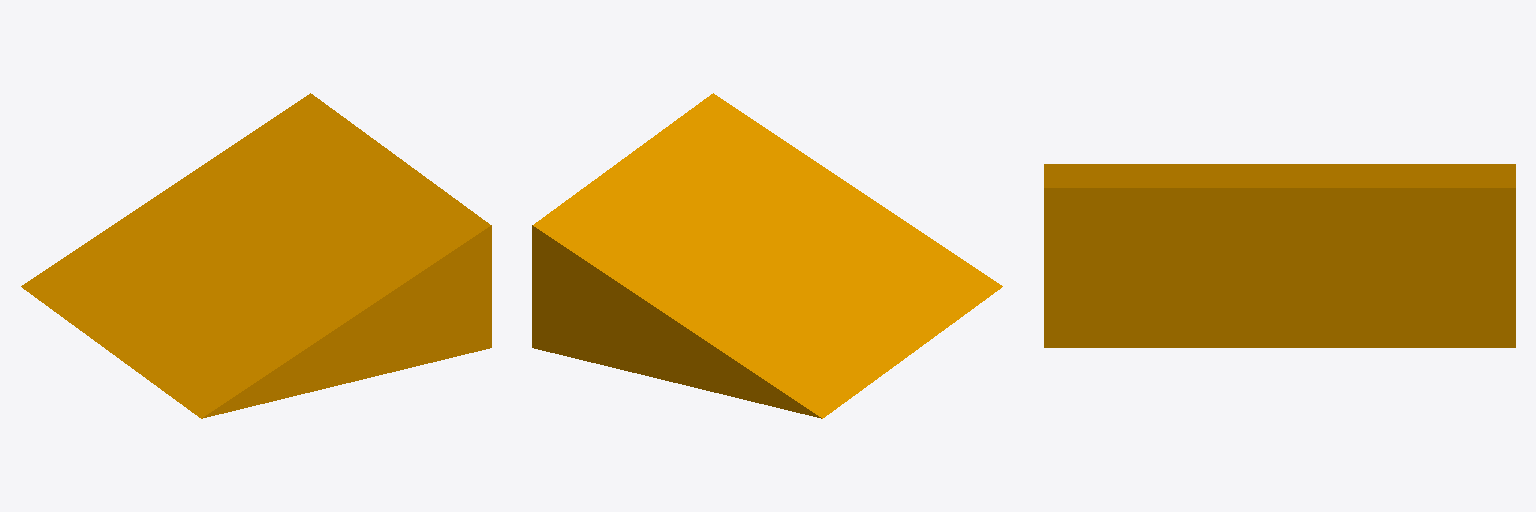
robot.urdf — jump22deg:
<?xml version="1.0"?>

<robot name="jump22deg">
  <gazebo>
    <static>true</static>
  </gazebo>
  <link name="jump22deg_link">
    <origin pose="0 0 0 0 0 0"/>
    <collision name="jump22deg_collision">
      <geometry>
        <mesh filename="package://ackermann_vehicle_description/urdf/jump22deg.stl" scale="0.01 0.01 0.01" />
      </geometry>
    </collision>
    
    <visual name="jump22deg_visual" cast_shadows="false">
      <geometry>
        <mesh filename="package://ackermann_vehicle_description/urdf/jump22deg.stl" scale="0.01 0.01 0.01" />
      </geometry>
    </visual>
    <inertial>
      <origin xyz="0 0 0" />
      <mass value="1000000000.0" />
      <inertia  ixx="1.0" ixy="0.0"  ixz="0.0"  iyy="100.0"  iyz="0.0"  izz="1.0" />
    </inertial>
  </link>
  <gazebo reference="jump22deg_link">
    <material>Gazebo/Grey</material>
    <mu1>0.6</mu1>
    <mu2>0.6</mu2>
  </gazebo>
  
</robot>

--- Facts derived from the render (not from the file) ---
The picture shows the robot from 3 angles, left to right: view 1: azimuth 30°, elevation 25°; view 2: azimuth 150°, elevation 25°; view 3: azimuth 270°, elevation 25°; orthographic projection.
Model jump22deg with 1 links and 0 joints (none), rooted at jump22deg_link, posed every joint at zero.
Visible links, largest first — view 1: jump22deg_link; view 2: jump22deg_link; view 3: jump22deg_link.
Boxes of the visible links, left/top/right/bottom form: jump22deg_link: left=21, top=93, right=491, bottom=418; jump22deg_link: left=532, top=93, right=1002, bottom=418; jump22deg_link: left=1044, top=164, right=1515, bottom=347.
Bounding box of the posed robot: 1.13 × 1.22 × 0.4567 m (x, y, z).
1 mesh visuals loaded from 1 distinct referenced files (1 binary STL).
